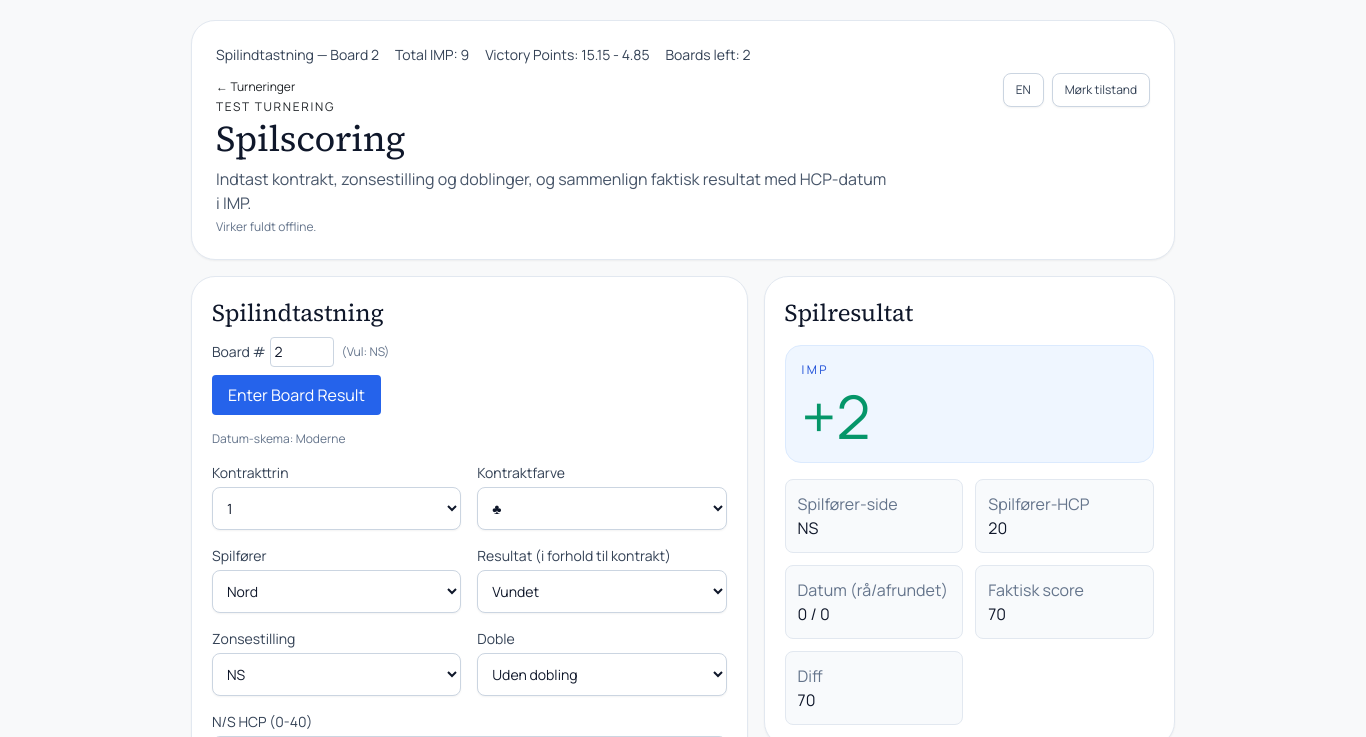
it: BoardEntry › restores stored board values when switching to an existing board and resets on a new board
Replace the text in the number field labelled "Board #" with "1": [302, 352] box [270,337,334,367]
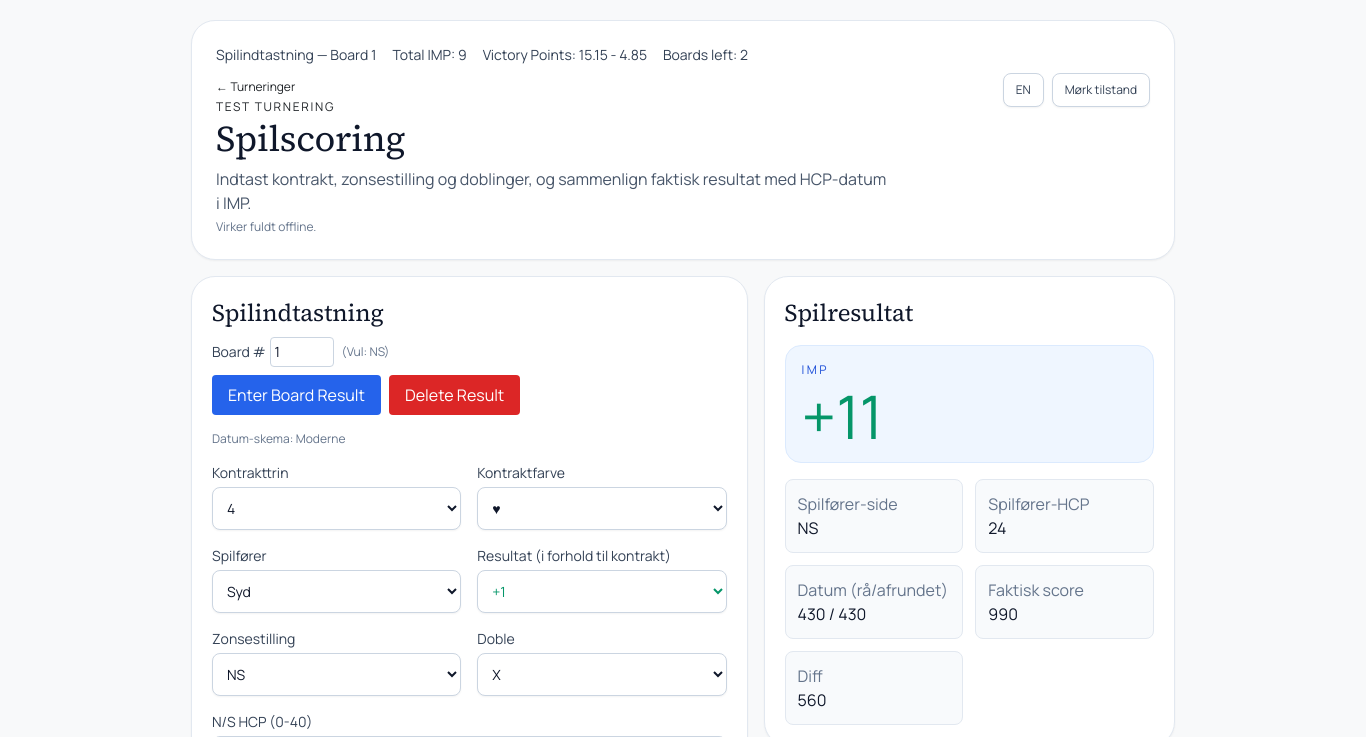
Result: the dropdown showing "4" is shown at [212,487,461,530]
Result: the dropdown showing "♥" is shown at [477,487,727,530]
Result: the dropdown showing "Syd" is shown at [212,570,461,613]
Replace the text in the number field labelled "Board #" with "3": [302, 352] box [270,337,334,367]
(page scrolled)
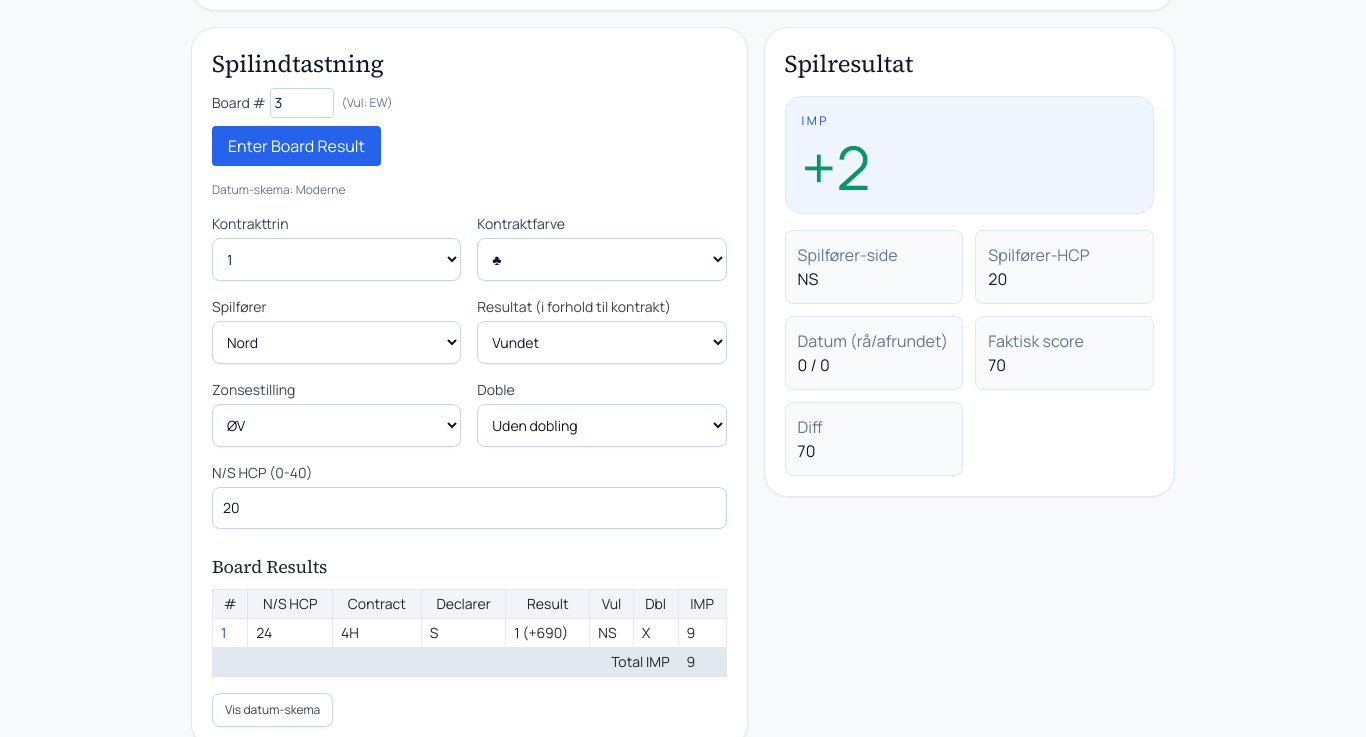
Result: the dropdown showing "♣" is shown at [477,238,727,281]
Result: the dropdown showing "Nord" is shown at [212,321,461,364]
Result: the number field showing "20" is shown at [212,487,727,529]
